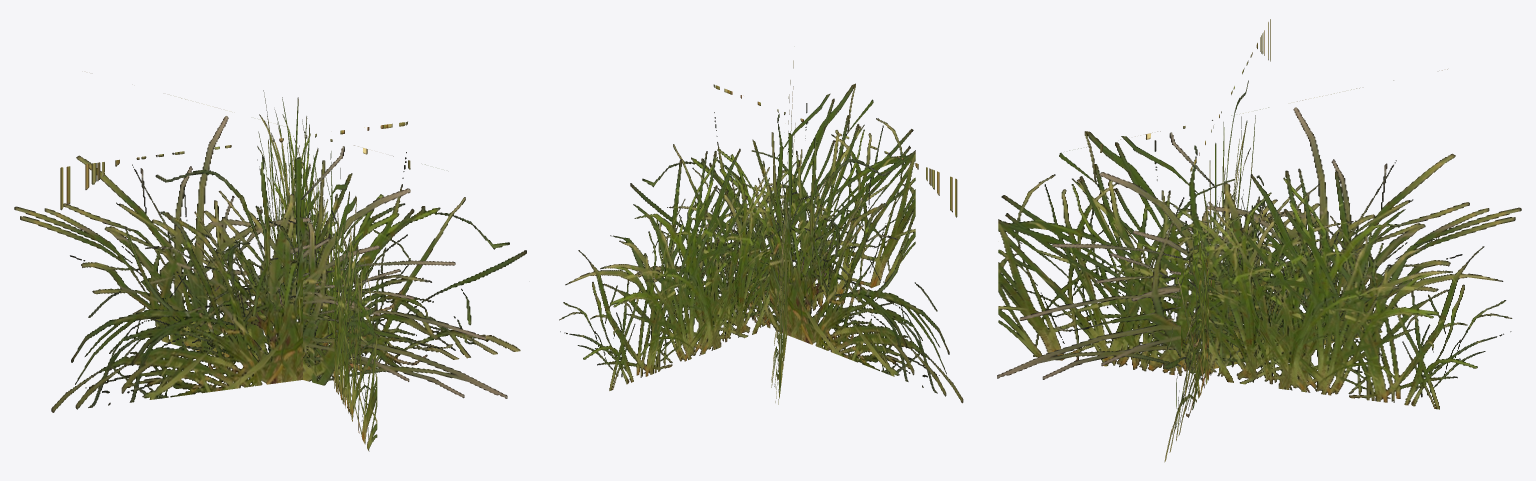
Rendered from grass_clump_0.glb.
3 renders of one model, left to right at view 1: azimuth 30°, elevation 25°; view 2: azimuth 150°, elevation 25°; view 3: azimuth 270°, elevation 25°, orthographic. The views are drawn at different scales.
Visible parts, largest first — view 1: GrassClump; view 2: GrassClump; view 3: GrassClump.
Boxes of the visible parts, x1,y1,x2,y2 form: GrassClump: (14, 90, 526, 451); GrassClump: (559, 60, 963, 404); GrassClump: (997, 19, 1521, 462).
Bounding box in the file's own units: 0.7434 × 0.4158 × 0.7979.
Materials: 1 (1 with a texture image).
